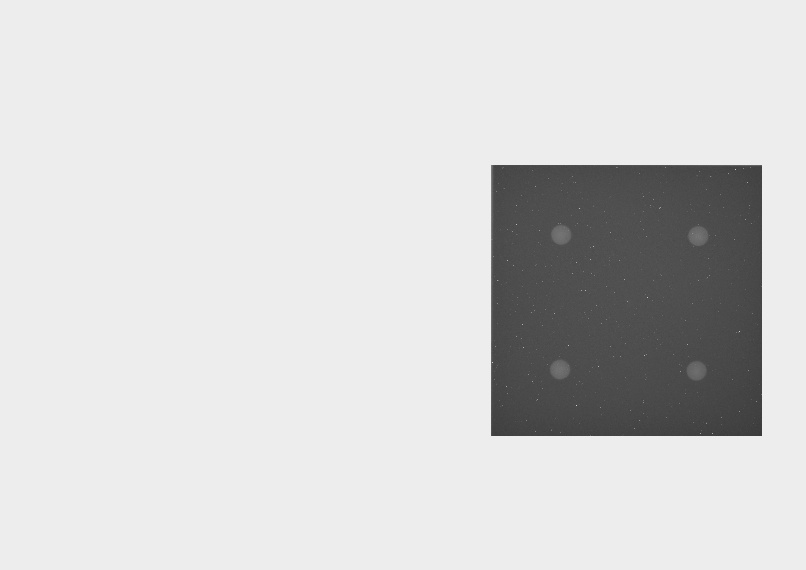bubble: (687, 225, 709, 246), (549, 359, 571, 379), (551, 224, 571, 245), (686, 361, 707, 381)
